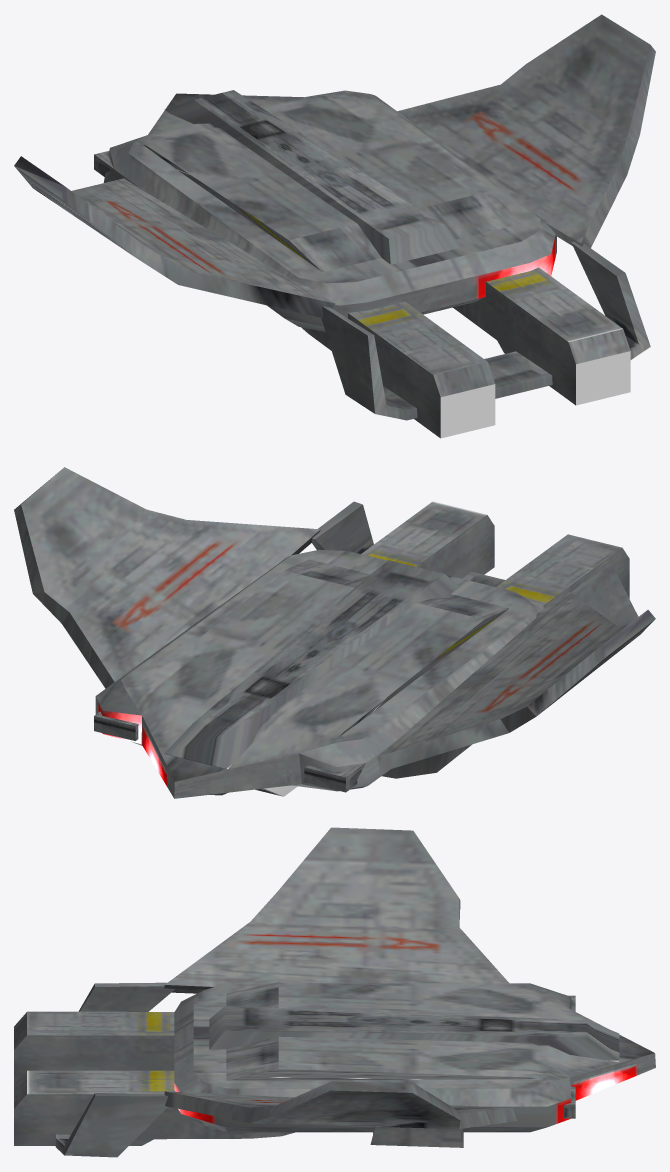
File: Fed_Peregrine.fbx
The picture shows the model from 3 angles, top to bottom: view 1: azimuth 30°, elevation 25°; view 2: azimuth 150°, elevation 25°; view 3: azimuth 270°, elevation 25°; orthographic projection. The views are drawn at different scales.
Visible parts, largest first — view 1: Fed_Peregrine; view 2: Fed_Peregrine; view 3: Fed_Peregrine.
Part boxes in pixels (x1,y1,x2,y2): Fed_Peregrine: (14,14,655,438); Fed_Peregrine: (14,467,655,798); Fed_Peregrine: (14,827,655,1157).
Bounding box in the file's own units: 66.03 × 18.46 × 69.07.
Materials: 1 (1 with a texture image).
